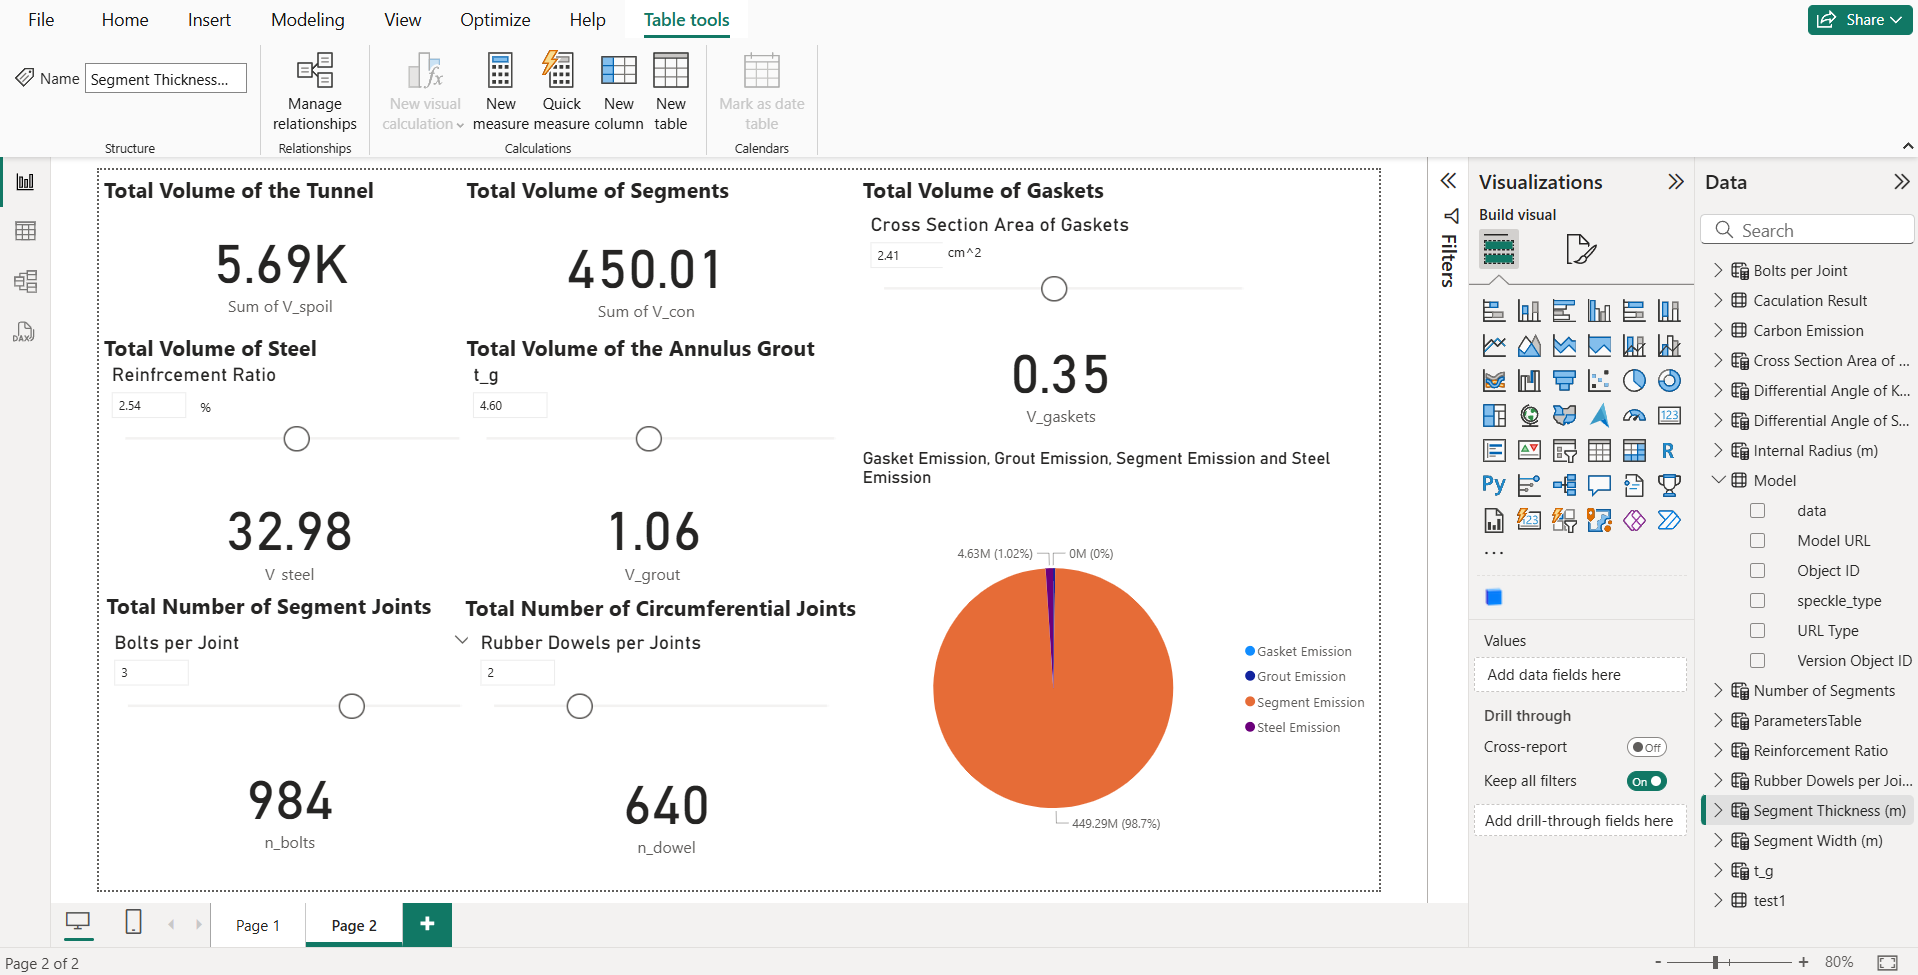

What the dashboard file says about the page in this screenshot:
{"tool":"powerbi","page":{"name":"Page 2","canvas":[1280,720],"ordinal":1},"visuals":[{"type":"card","fields":{"Values":["Sum(test1.V_spoil)"]},"box":[1.4,44.3,360,108.6],"z":0},{"type":"card","fields":{"Values":["Sum(test1.Column2)"]},"box":[362,32,370,140],"z":1000},{"type":"textbox","box":[0,0,361,45],"z":2000},{"type":"card","fields":{"Values":["test1.V_steel"]},"box":[0,315,381.7,100],"z":3000},{"type":"textbox","box":[362,0,368,45],"z":4000},{"type":"textbox","box":[0,157.8,285.4,38.4],"z":5000},{"type":"slicer","fields":{"Values":["参数.参数"]},"box":[0,188.3,383.3,151.7],"z":6000},{"type":"textbox","box":[96.1,222.3,85.1,28.8],"z":7000},{"type":"textbox","box":[362,158,383,39],"z":8000},{"type":"slicer","fields":{"Values":["t_g.t_g"]},"box":[361.4,188.6,397.1,151.4],"z":9000},{"type":"card","fields":{"Values":["test1.V_grout"]},"box":[361.7,295,385,140],"z":10000},{"type":"textbox","box":[2,416,382,40],"z":11000},{"type":"slicer","fields":{"Values":["Bolts per Joint.Bolts per Joint"]},"box":[2,456,382,154],"z":12000},{"type":"card","fields":{"Values":["test1.n_bolts"]},"box":[0,564,382,140],"z":13000},{"type":"textbox","box":[361.4,417.1,424.3,38.6],"z":14000},{"type":"slicer","fields":{"Values":["Rubber Dowels per Joints.Rubber Dowels per Joints"]},"box":[368.6,455.7,382.9,157.1],"z":15000},{"type":"card","fields":{"Values":["test1.n_dowel"]},"box":[375.7,574.3,382.9,130],"z":16000},{"type":"slicer","fields":{"Values":["Cross Section Area of Gaskets.Cross Section Area of Gaskets"]},"box":[758.6,38.6,407.1,158.6],"z":17000},{"type":"textbox","box":[758.6,0,382.9,38.6],"z":18000},{"type":"card","fields":{"Values":["test1.V_gaskets"]},"box":[758.6,137.1,407.1,140],"z":19000},{"type":"textbox","box":[844.3,67.1,84.3,34.3],"z":20000},{"type":"pieChart","fields":{"Y":["Carbon Emission.Gasket Emission","Carbon Emission.Grout Emission","Carbon Emission.Segment Emission","Carbon Emission.Steel Emission"]},"box":[758.8,277.2,521.4,443.2],"z":21000}]}

Visuals, with their boxes on the page's 1280x720 design canvas (x1, y1, x2, y2). These are canvas units, not pixel positions in the 1918x975 screenshot, which may show the page scaled, cropped or inside an application window:
card - Sum(test1.V_spoil): <bbox>1, 44, 361, 153</bbox>
card - Sum(test1.Column2): <bbox>362, 32, 732, 172</bbox>
textbox: <bbox>0, 0, 361, 45</bbox>
card - test1.V_steel: <bbox>0, 315, 382, 415</bbox>
textbox: <bbox>362, 0, 730, 45</bbox>
textbox: <bbox>0, 158, 285, 196</bbox>
slicer - 参数.参数: <bbox>0, 188, 383, 340</bbox>
textbox: <bbox>96, 222, 181, 251</bbox>
textbox: <bbox>362, 158, 745, 197</bbox>
slicer - t_g.t_g: <bbox>361, 189, 758, 340</bbox>
card - test1.V_grout: <bbox>362, 295, 747, 435</bbox>
textbox: <bbox>2, 416, 384, 456</bbox>
slicer - Bolts per Joint.Bolts per Joint: <bbox>2, 456, 384, 610</bbox>
card - test1.n_bolts: <bbox>0, 564, 382, 704</bbox>
textbox: <bbox>361, 417, 786, 456</bbox>
slicer - Rubber Dowels per Joints.Rubber Dowels per Joints: <bbox>369, 456, 752, 613</bbox>
card - test1.n_dowel: <bbox>376, 574, 759, 704</bbox>
slicer - Cross Section Area of Gaskets.Cross Section Area of Gaskets: <bbox>759, 39, 1166, 197</bbox>
textbox: <bbox>759, 0, 1142, 39</bbox>
card - test1.V_gaskets: <bbox>759, 137, 1166, 277</bbox>
textbox: <bbox>844, 67, 929, 101</bbox>
pieChart - Carbon Emission.Gasket Emission x Carbon Emission.Grout Emission: <bbox>759, 277, 1280, 720</bbox>
